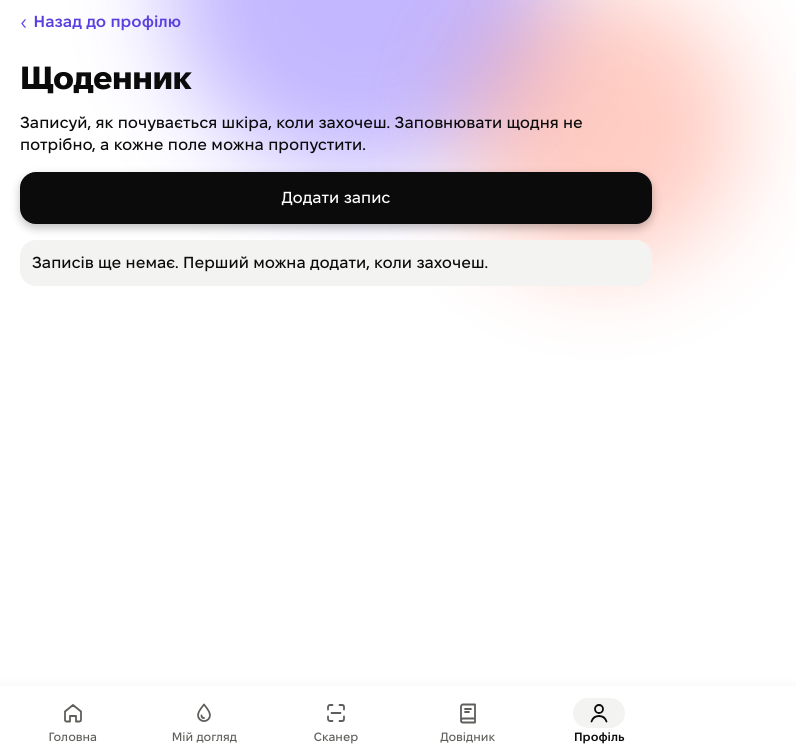
it: creating an entry › one filled field is enough: only a note
Click the button "Додати запис" at [336, 198], box [20,172,652,224]
(page scrolled)
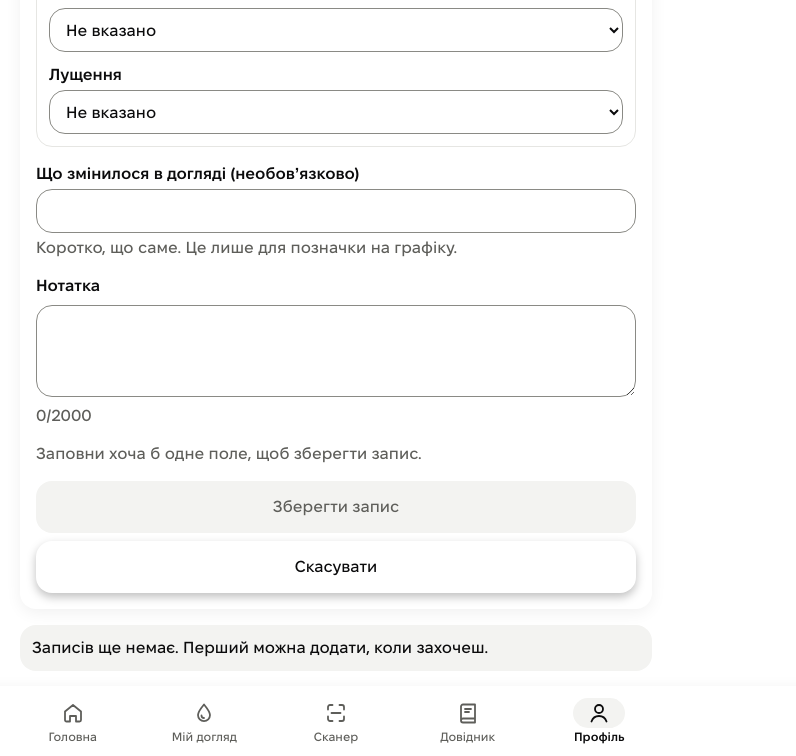
Type "Today is calm" into the text box labelled "Нотатка" at [336, 351], box [36,305,636,397]
(page scrolled)
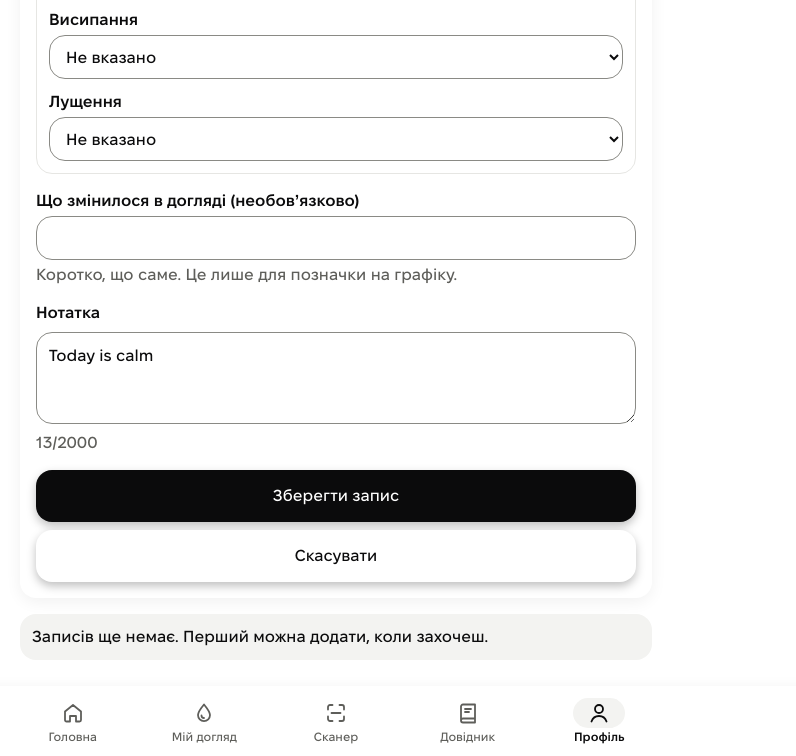
Click the button "Зберегти запис" at [336, 496], box [36,470,636,522]
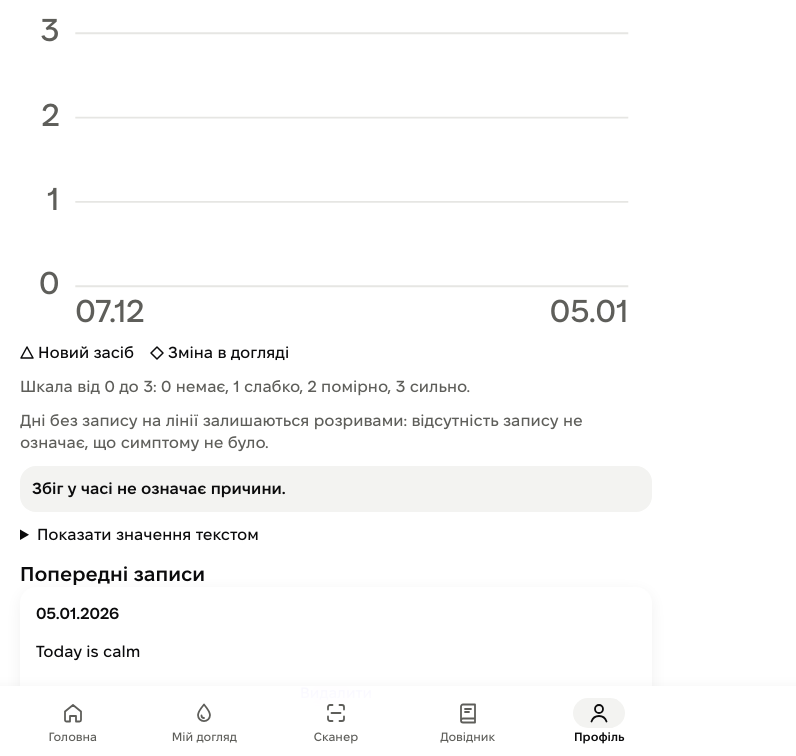
Expected: the text "Today is calm" is shown, [36,643,140,660]
